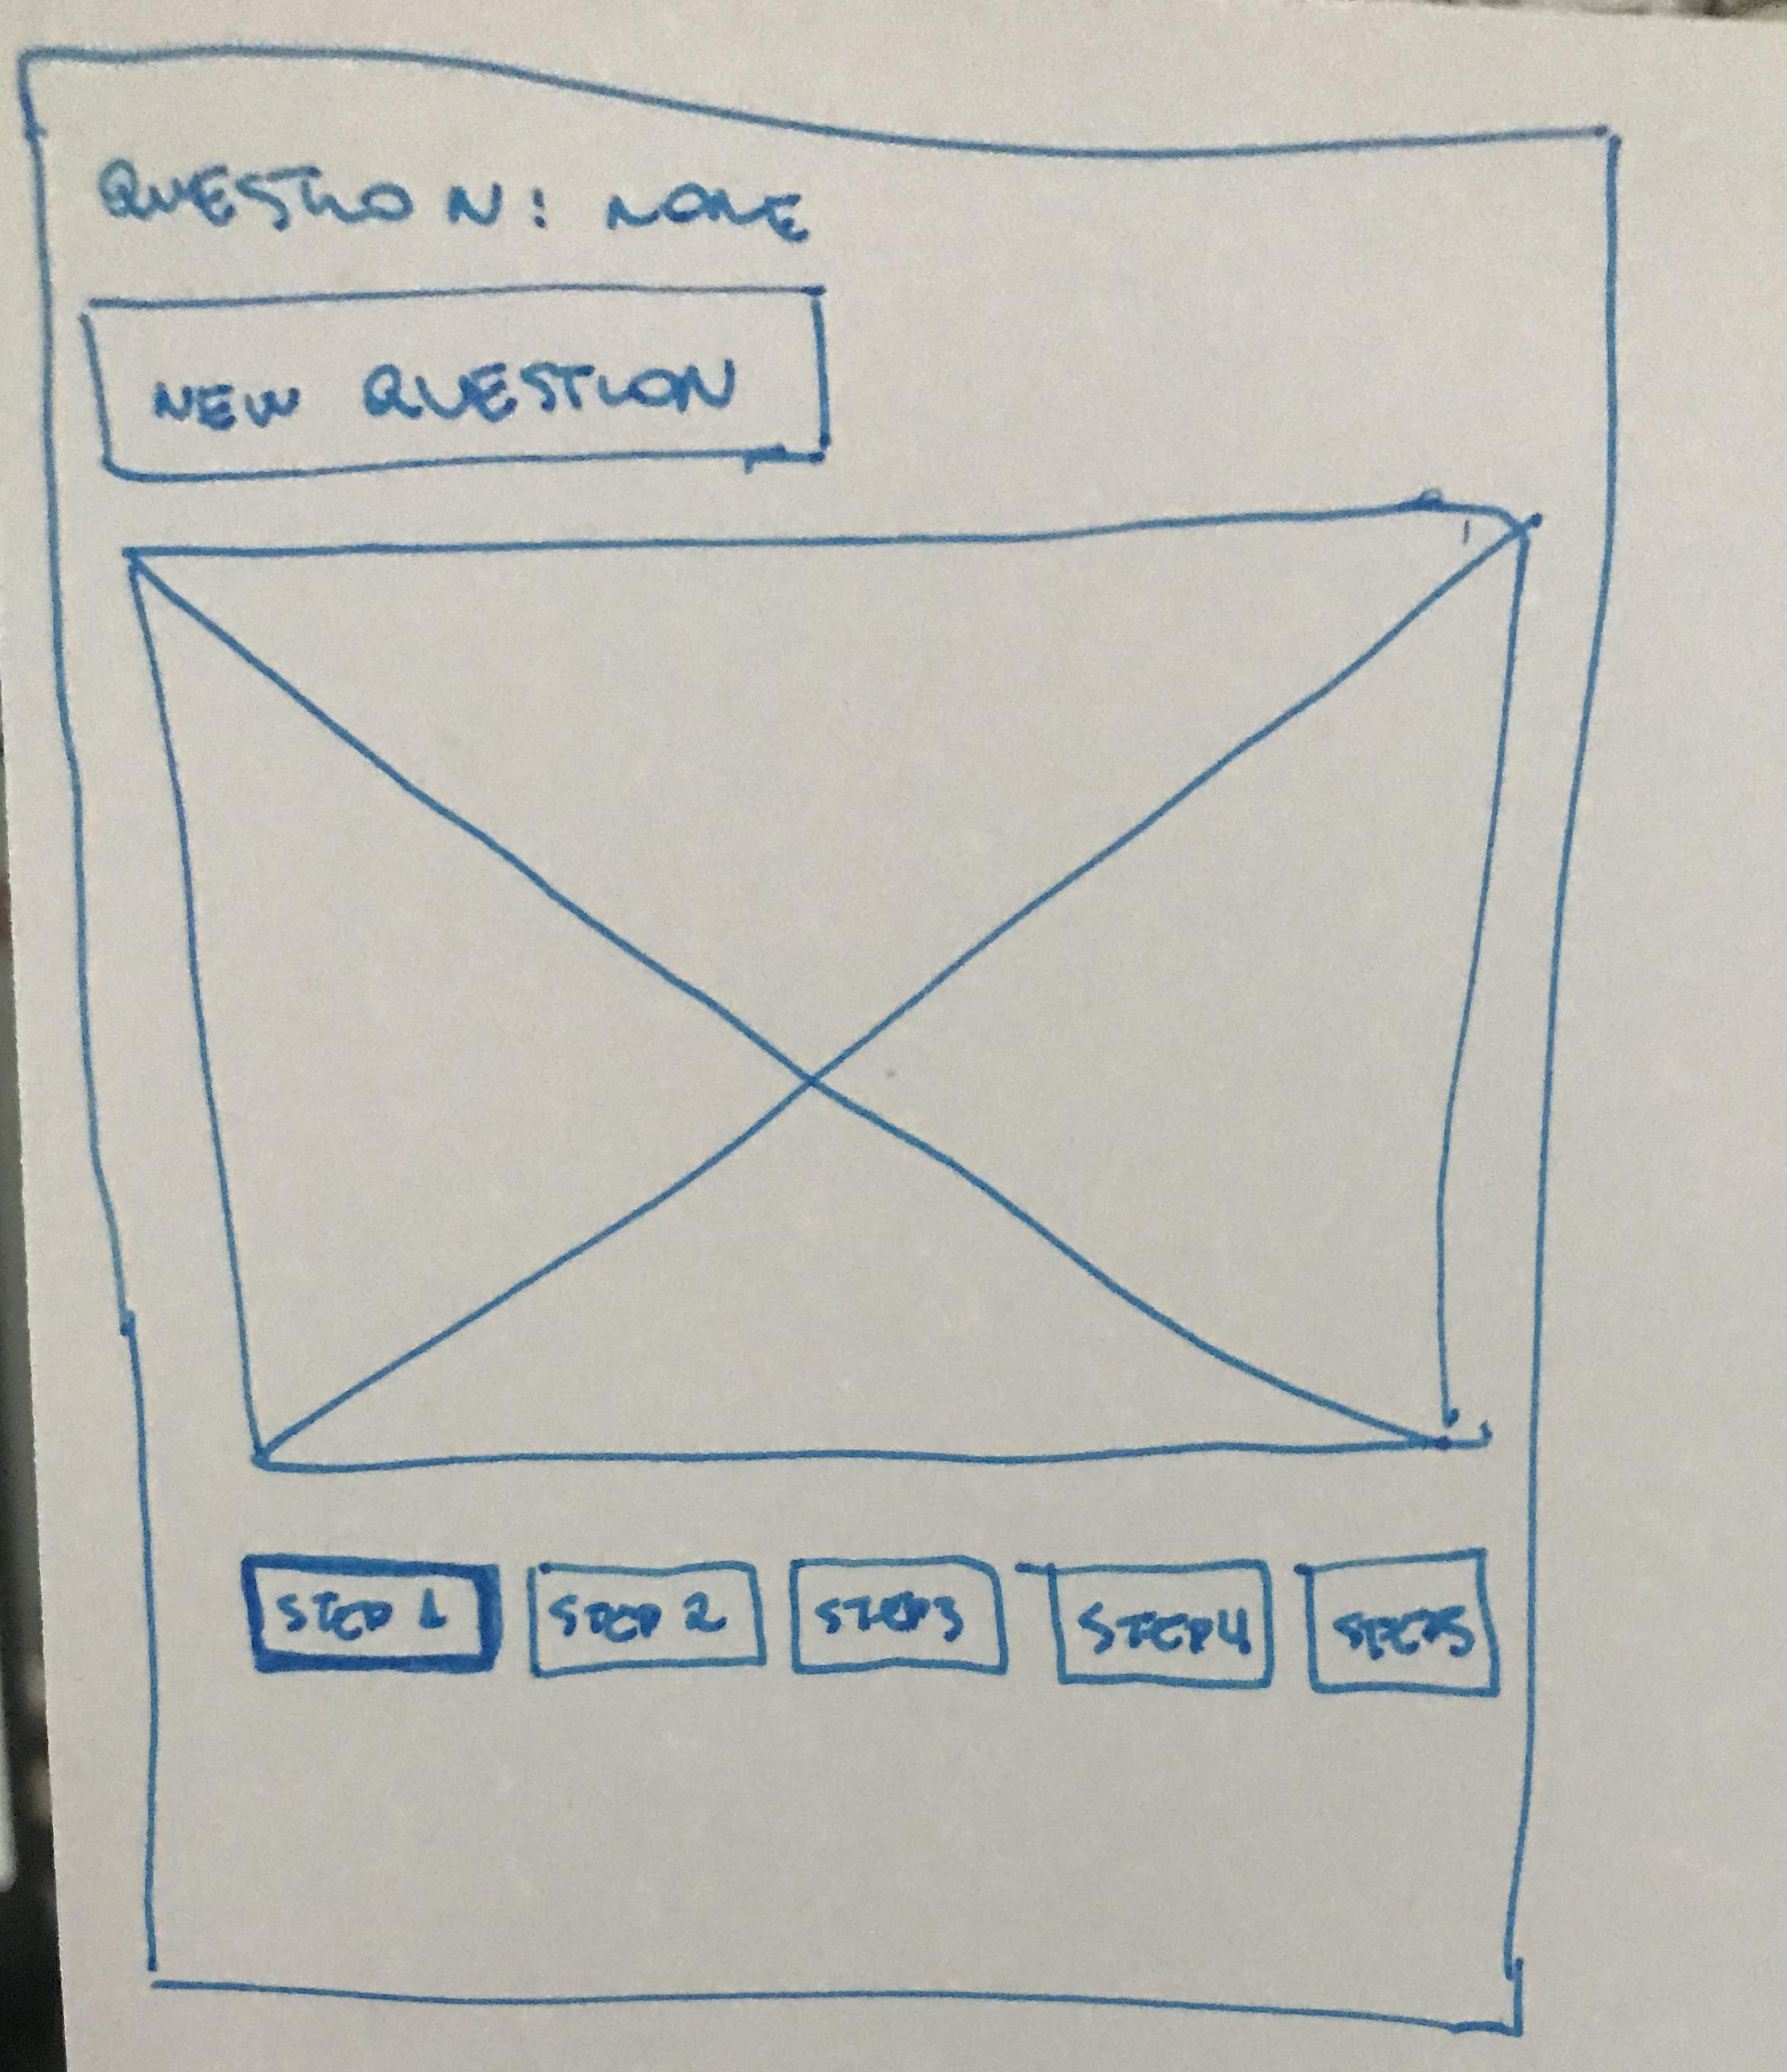Button: (92, 282, 834, 483), (240, 1550, 502, 1677), (1306, 1549, 1505, 1697), (527, 1556, 770, 1676), (1049, 1561, 1276, 1688), (791, 1556, 1008, 1674)
Image: (130, 504, 1540, 1473)
Label: (95, 157, 809, 241)
Screen: (21, 48, 1621, 2033)
